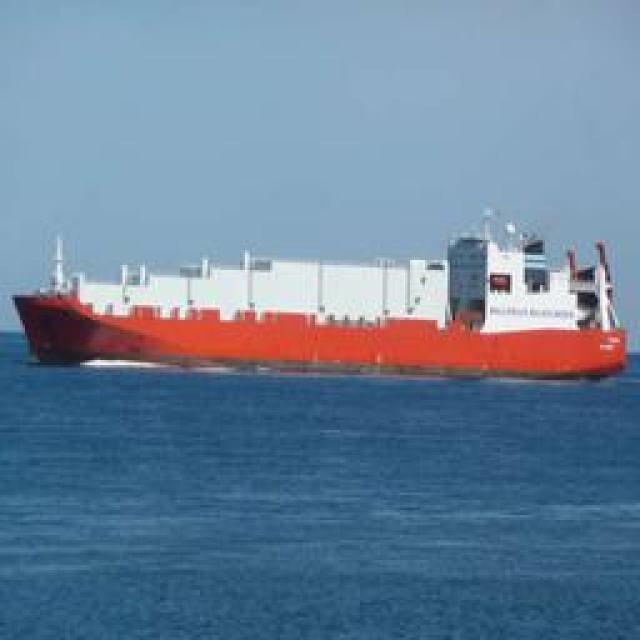CIV_Ship: (10, 228, 632, 378)
